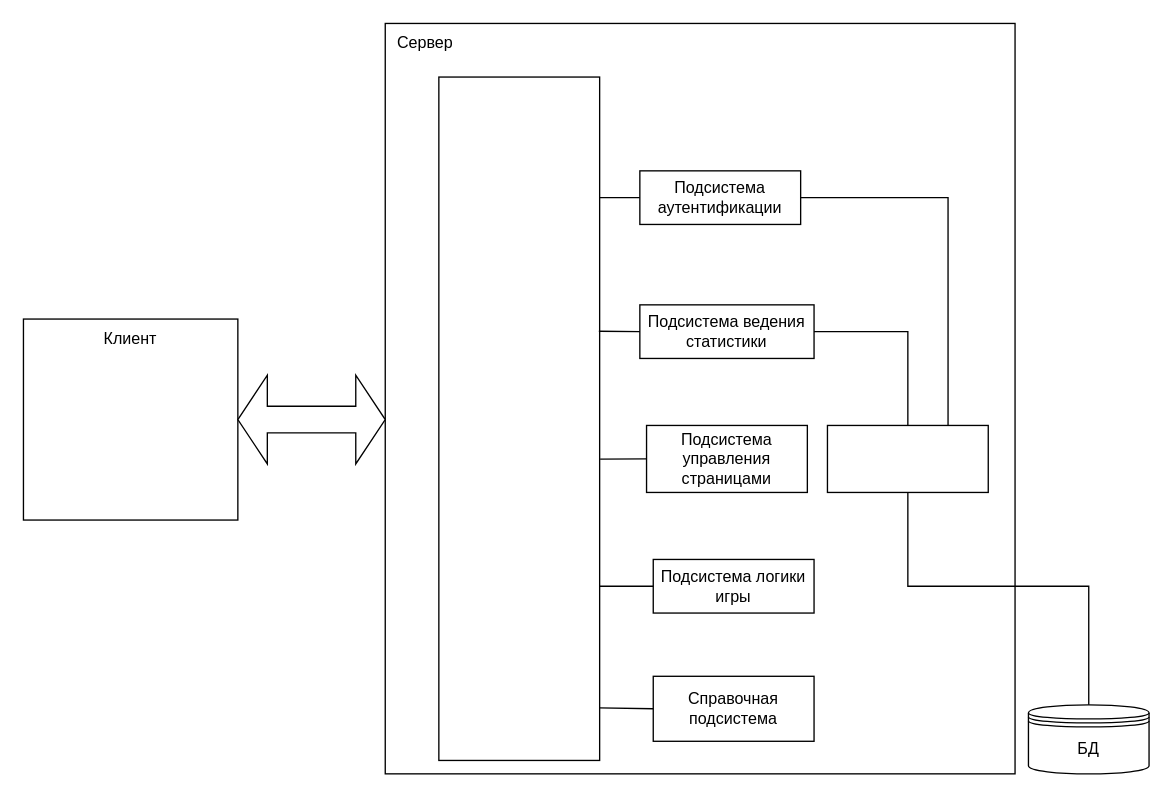
This 1173x797 diagram has some shape labels left out. Each missing label, with the centre of its shape:
"HTTP" goes at (311,419).
"Подсистема взаимодействия с БД" goes at (907,458).
"Подсистема взаимодействия с клиентом" goes at (519,418).
